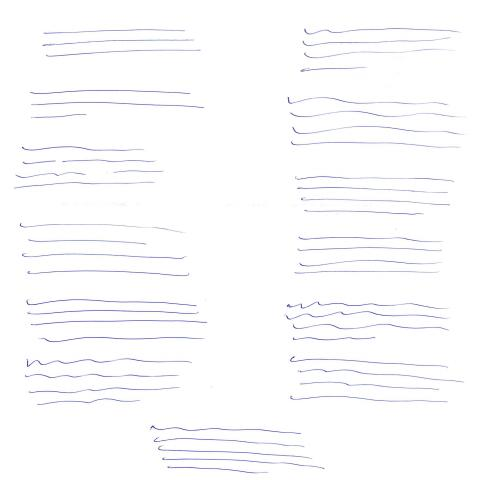Paragraph: (287, 96, 470, 150), (19, 223, 192, 278), (24, 357, 194, 407), (298, 22, 464, 73), (24, 299, 210, 344), (149, 425, 314, 475), (289, 358, 468, 404), (281, 303, 455, 343), (12, 146, 166, 191), (293, 176, 460, 216), (293, 236, 447, 279), (29, 90, 207, 121), (41, 29, 202, 59)
